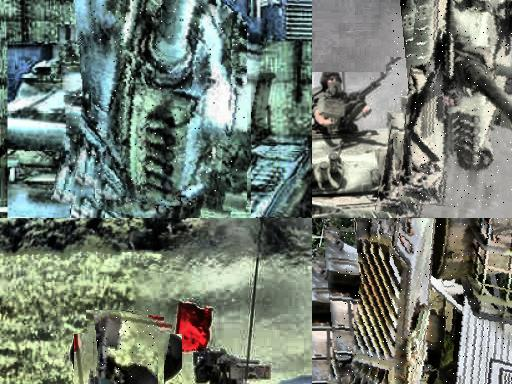tanks: (68, 1, 247, 206), (344, 219, 512, 384), (393, 1, 512, 208), (93, 311, 156, 384), (195, 351, 271, 384)
